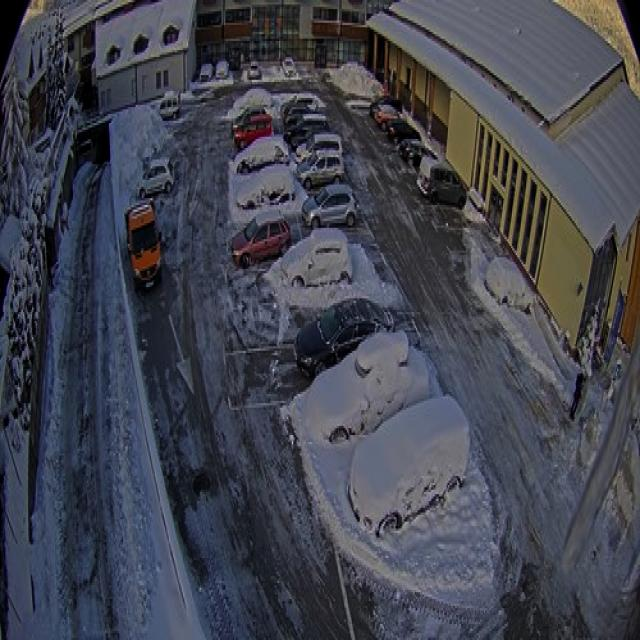car: (348, 396, 471, 541), (302, 333, 430, 447), (296, 300, 394, 384), (284, 228, 352, 302), (230, 210, 292, 272), (124, 203, 163, 293), (484, 251, 532, 318), (303, 182, 357, 238), (242, 164, 294, 220), (420, 153, 466, 214), (234, 134, 288, 183), (294, 133, 345, 173), (232, 108, 274, 154), (136, 156, 175, 200), (300, 154, 345, 192), (292, 120, 334, 158), (284, 110, 328, 146), (231, 98, 268, 139), (409, 139, 444, 176), (279, 92, 315, 124), (367, 90, 401, 122), (400, 130, 434, 162), (388, 118, 421, 148), (375, 102, 404, 134), (154, 91, 181, 125), (246, 57, 264, 89), (278, 54, 298, 82), (214, 59, 232, 87), (197, 58, 214, 84)
